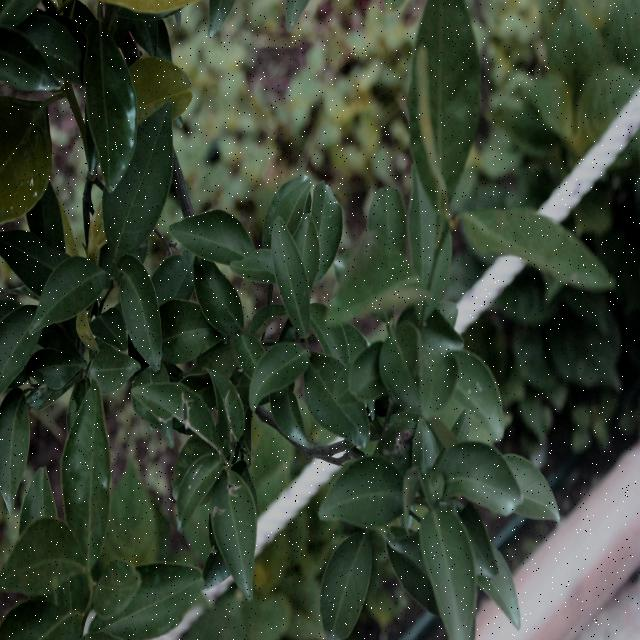healthy: (412, 0, 480, 208), (467, 206, 618, 298), (64, 380, 116, 552), (418, 504, 482, 640), (115, 558, 206, 640), (316, 528, 380, 640), (310, 462, 405, 525), (120, 252, 166, 364), (440, 445, 521, 506), (269, 219, 310, 329), (250, 341, 310, 411), (174, 206, 248, 260), (197, 261, 245, 334)
